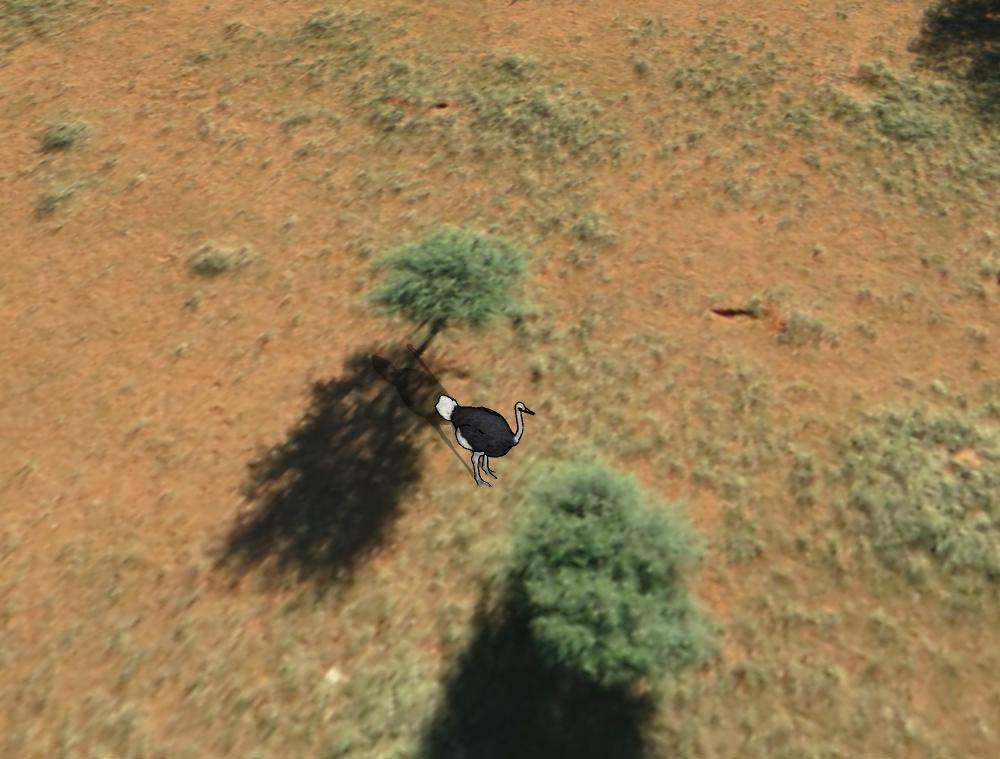ostrich: (433, 389, 537, 493)
